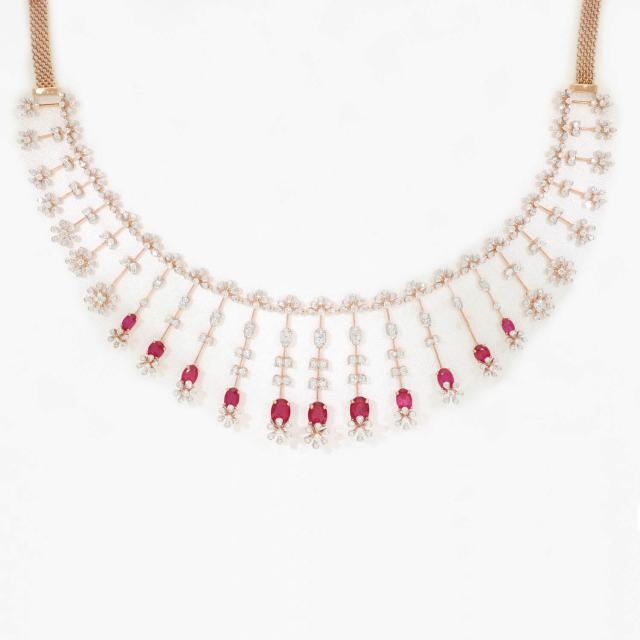missing gem: (465, 316, 475, 328), (460, 319, 468, 330)
